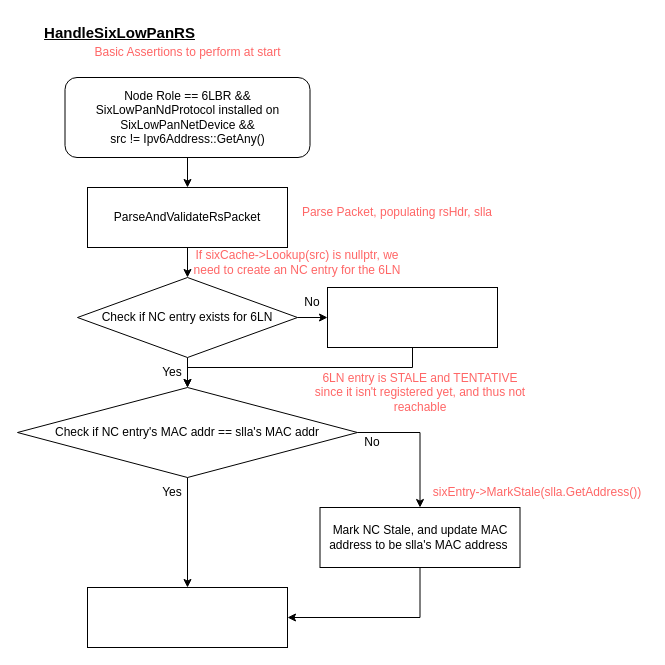
Image size: 665x665. Some labels were removed from this diagram. Each missing label, with the centre of its shape:
"Create STALE + TENTATIVE NC entry for 6LN" belongs at (412,317).
"SendSixLowPanRA" belongs at (187,617).
